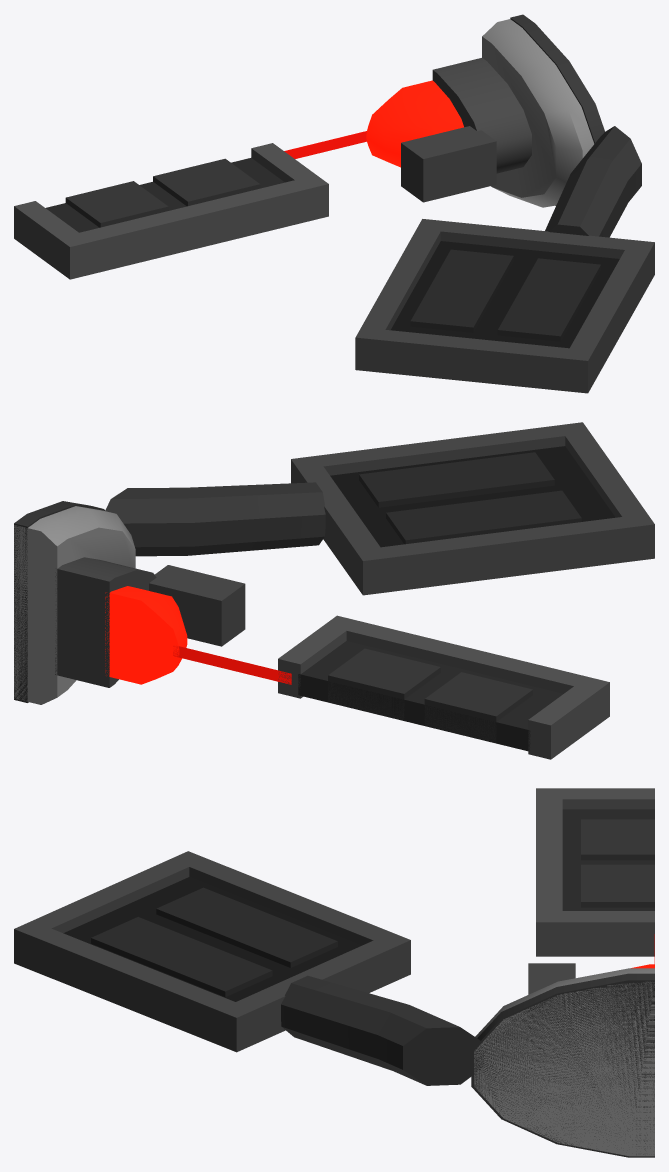
The model's file is newshl-49.glb.
The picture shows the model from 3 angles, top to bottom: view 1: azimuth 30°, elevation 25°; view 2: azimuth 150°, elevation 25°; view 3: azimuth 270°, elevation 25°; orthographic projection. The views are drawn at different scales.
Visible parts, largest first — view 1: newshl-49; view 2: newshl-49; view 3: newshl-49.
Part boxes in pixels (x1=…): newshl-49: x1=14, y1=14, x2=654, y2=393; newshl-49: x1=14, y1=422, x2=654, y2=759; newshl-49: x1=14, y1=788, x2=654, y2=1157.
Size of the model in its own units: 1.97 by 0.6179 by 2.02.
